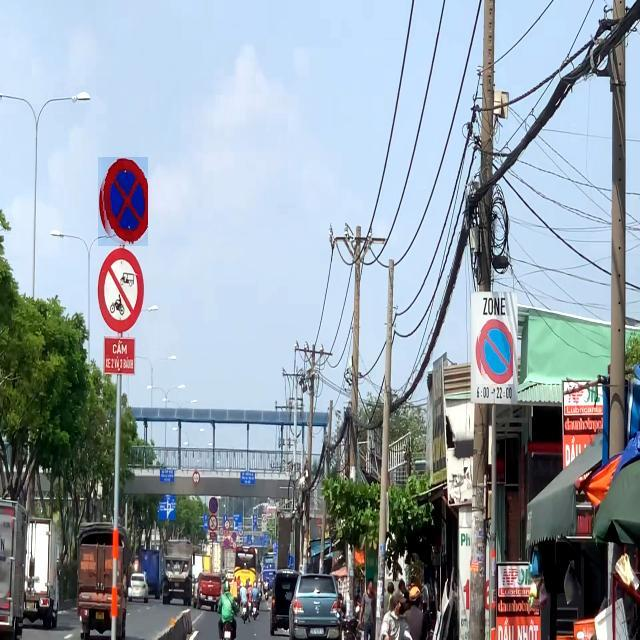P-130: (98, 157, 148, 246)
P-131a: (476, 316, 513, 384)
